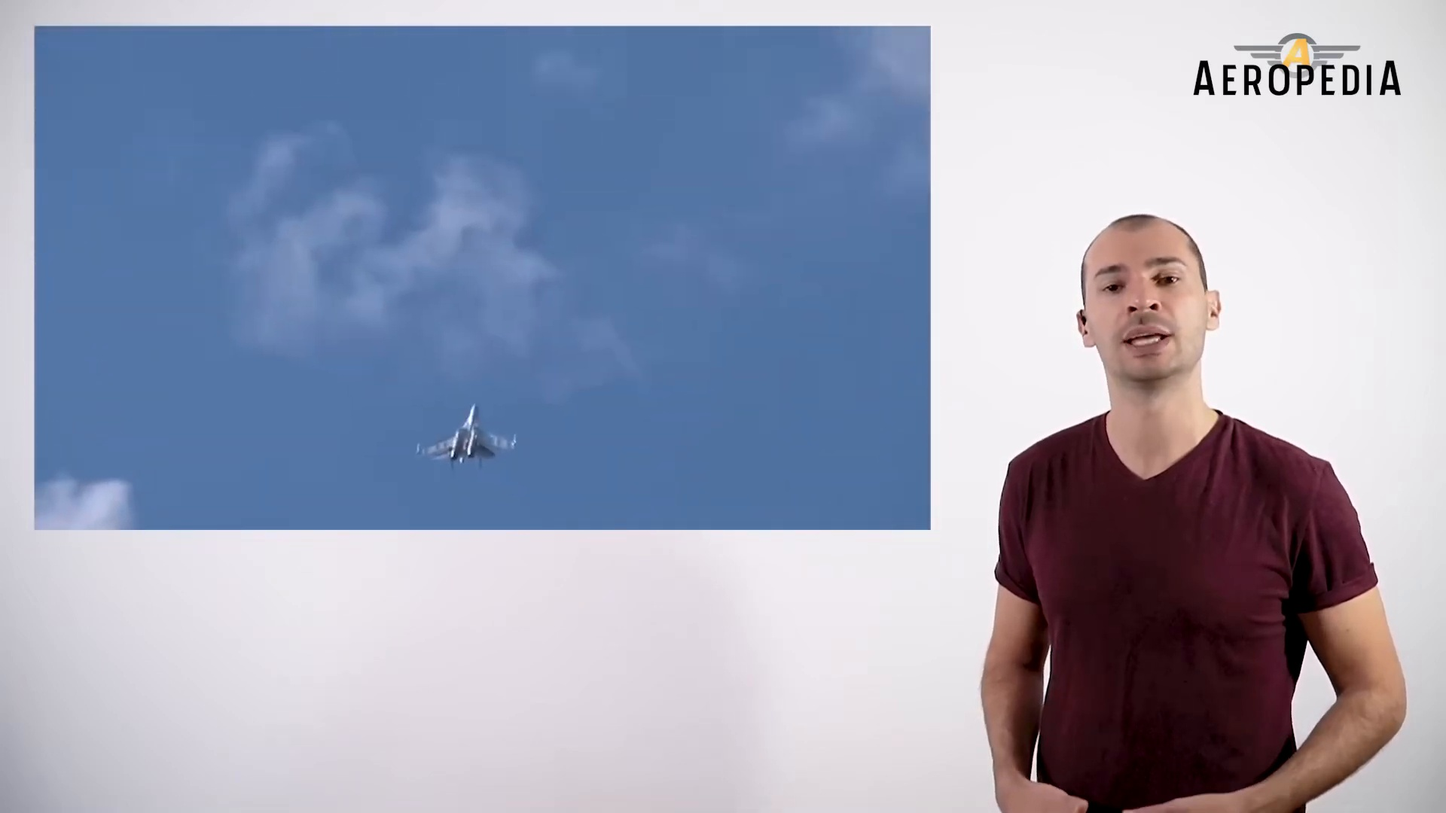Su35: (416, 403, 518, 468)
